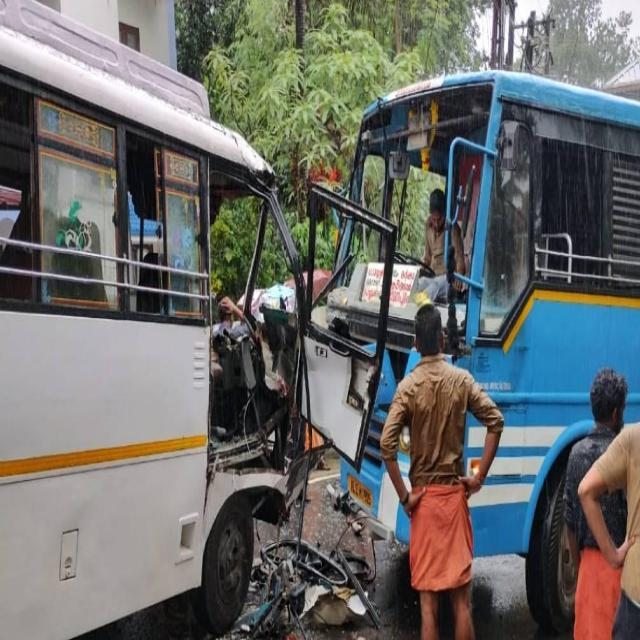accident: (0, 0, 395, 636)
bus: (341, 71, 640, 633)
